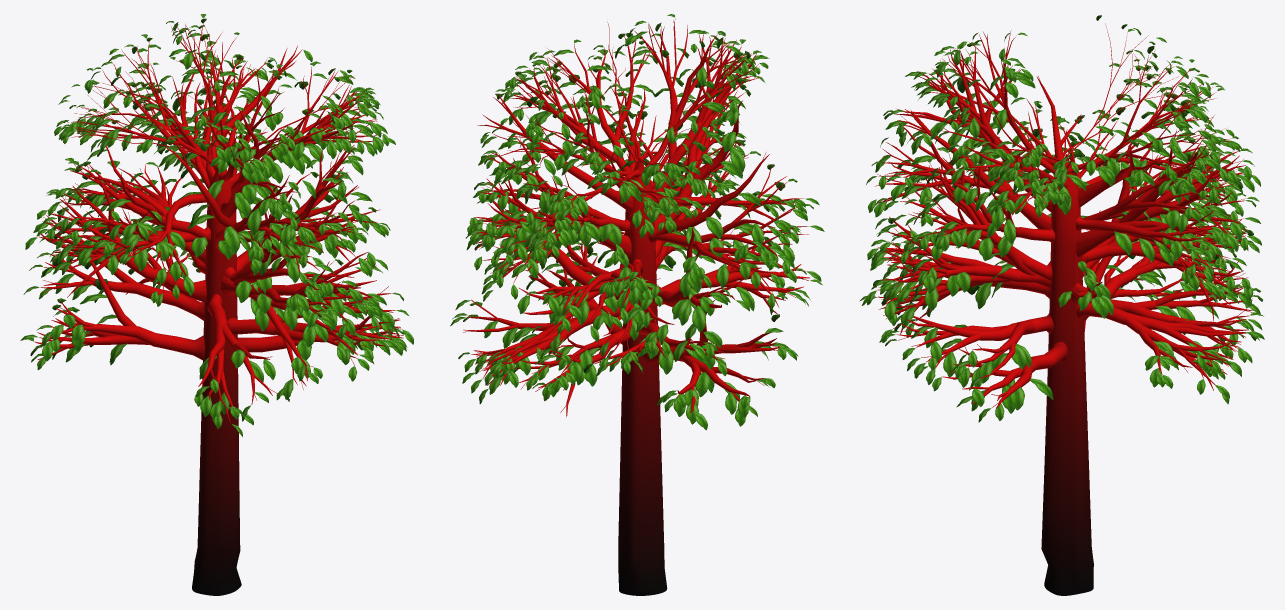
Rendered from ForestTree.fbx.
3 views of the same model, side by side, from view 1: azimuth 30°, elevation 25°; view 2: azimuth 150°, elevation 25°; view 3: azimuth 270°, elevation 25° (orthographic).
Visible parts, largest first — view 1: ForestTreeOG; view 2: ForestTreeOG; view 3: ForestTreeOG.
Part boxes in pixels (bbox=[...]): ForestTreeOG: bbox=[20, 14, 413, 595]; ForestTreeOG: bbox=[450, 14, 824, 595]; ForestTreeOG: bbox=[859, 15, 1264, 595].
Bounding box in the file's own units: 1208 × 1884 × 1298.
